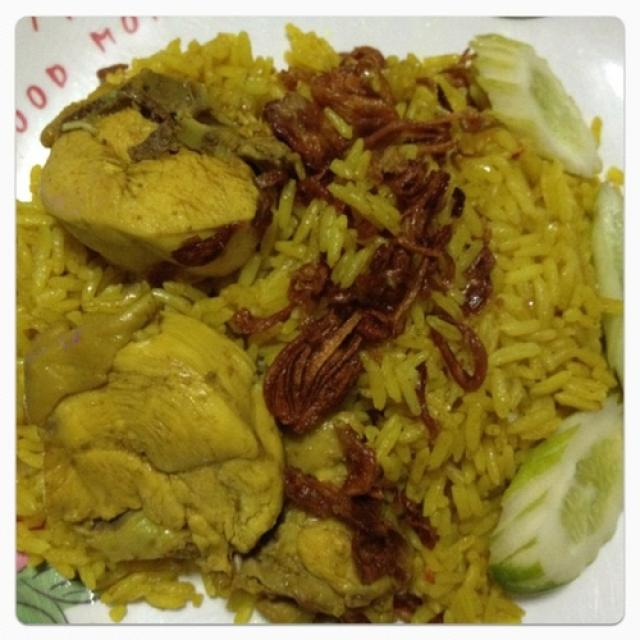米饭主食: (26, 26, 609, 610)
